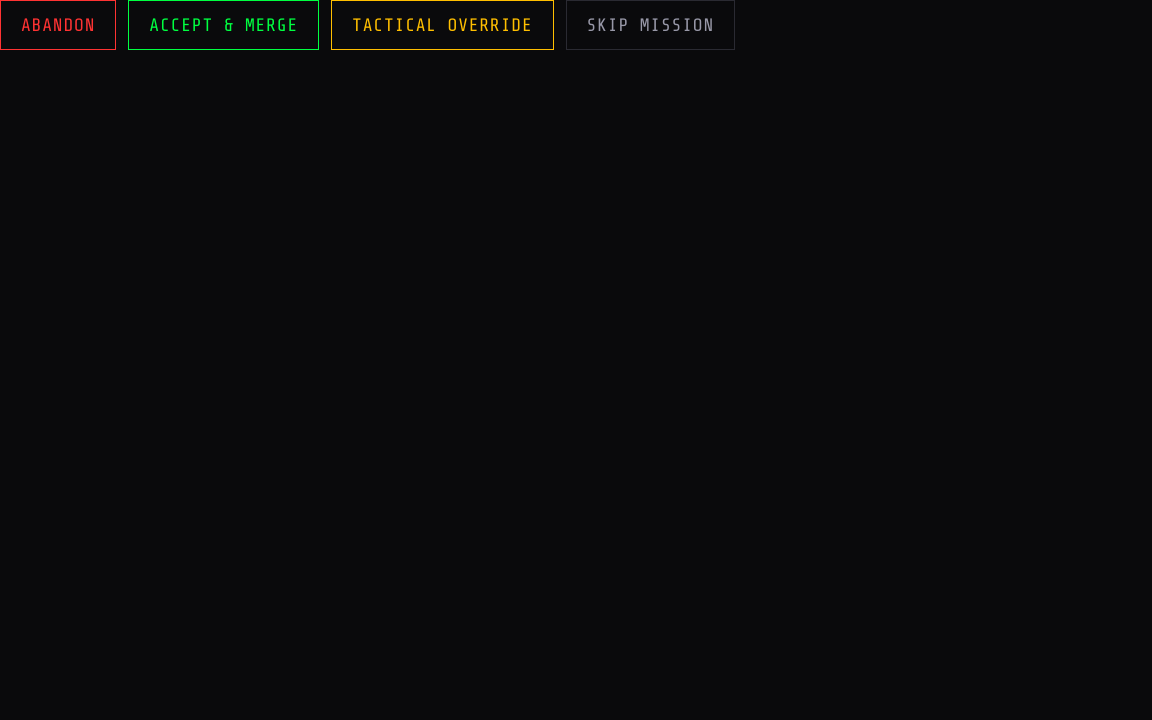
MissionActions › skip mission › shows confirm dialog when SKIP MISSION is clicked
Step 1. Click the button "SKIP MISSION" → {"x": 650, "y": 25}, box left=566, top=0, right=735, bottom=50
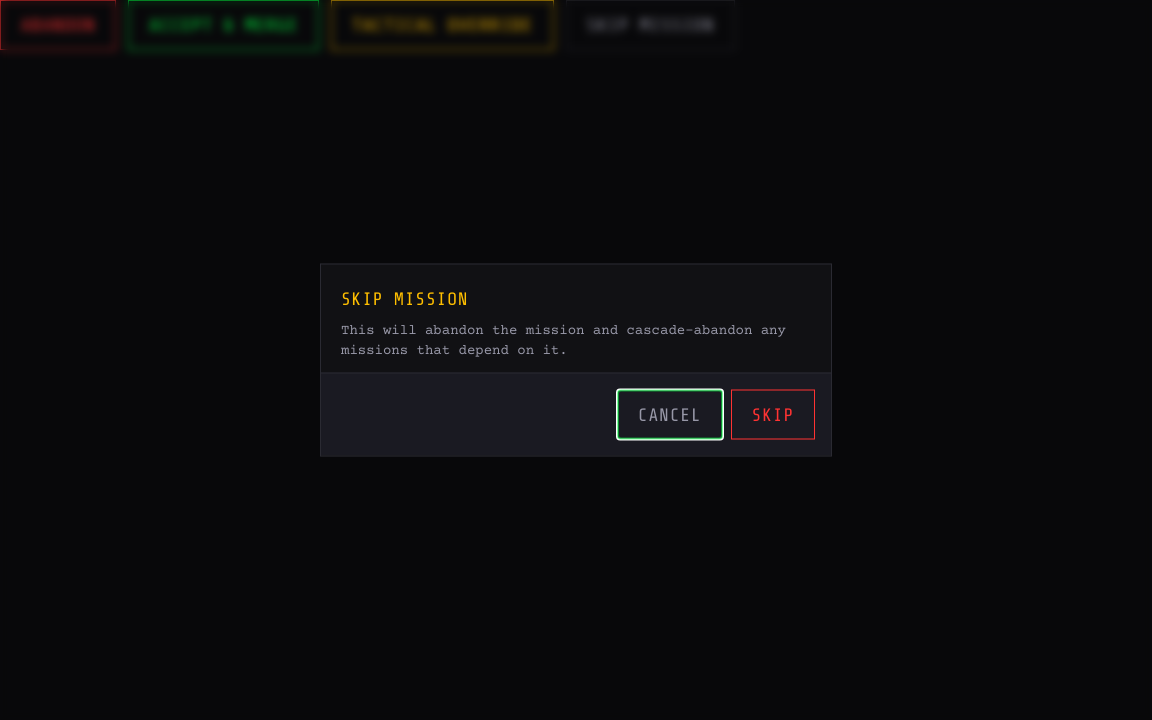
Result: the text "cascade-abandon any missions that depend on it" is shown at left=341, top=322, right=786, bottom=358
